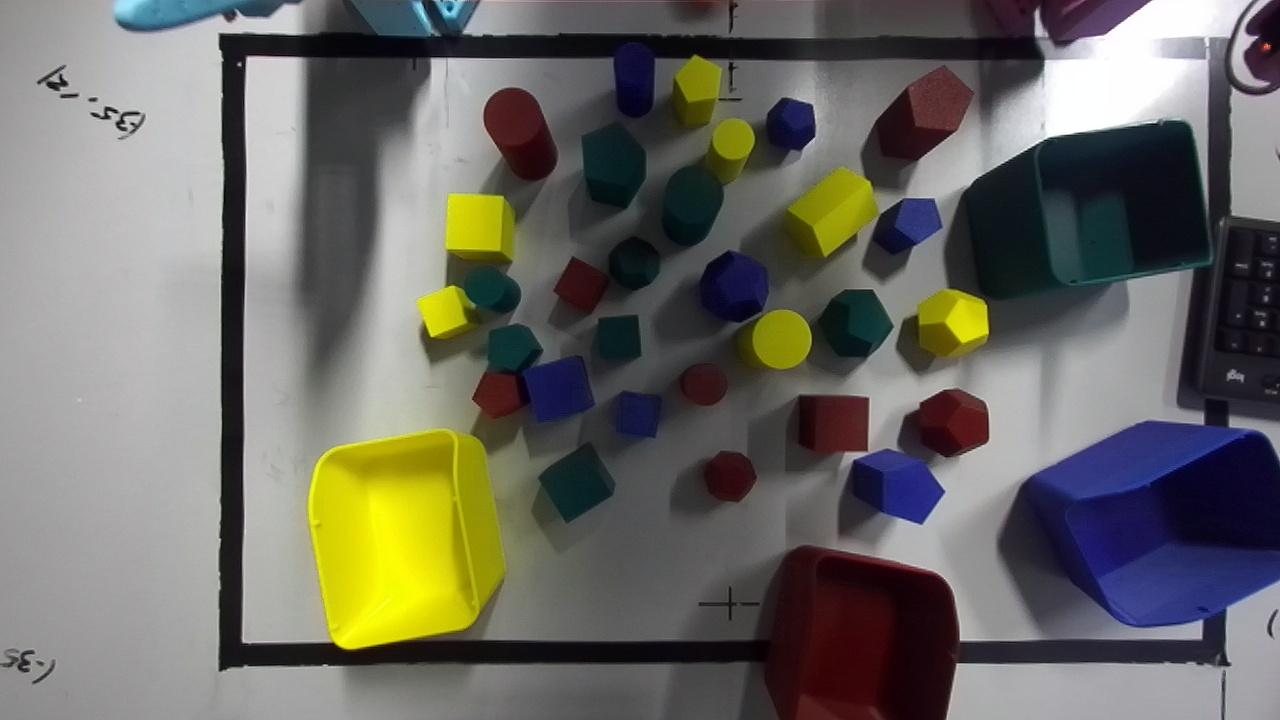bin: (1026, 421, 1279, 626), (965, 120, 1210, 298), (307, 429, 504, 649), (765, 546, 957, 719)
cube: (538, 442, 614, 522), (522, 356, 594, 421), (445, 193, 514, 260), (798, 395, 868, 452), (554, 256, 609, 313), (417, 285, 475, 338), (616, 391, 660, 437), (595, 315, 641, 359)
cylinder: (483, 88, 557, 180), (662, 166, 723, 245), (735, 310, 811, 369), (705, 118, 754, 183), (613, 42, 654, 116), (463, 264, 521, 312), (679, 363, 727, 405)
dodecahedron: (912, 389, 988, 457), (818, 289, 892, 356), (700, 251, 768, 321), (917, 289, 988, 355), (609, 236, 660, 289), (766, 97, 815, 149)
hexagonal: (874, 66, 973, 159), (784, 167, 878, 256), (850, 449, 944, 523), (581, 122, 645, 208), (872, 198, 941, 254), (672, 55, 721, 127), (487, 324, 542, 373), (472, 370, 527, 418), (704, 451, 756, 501)
